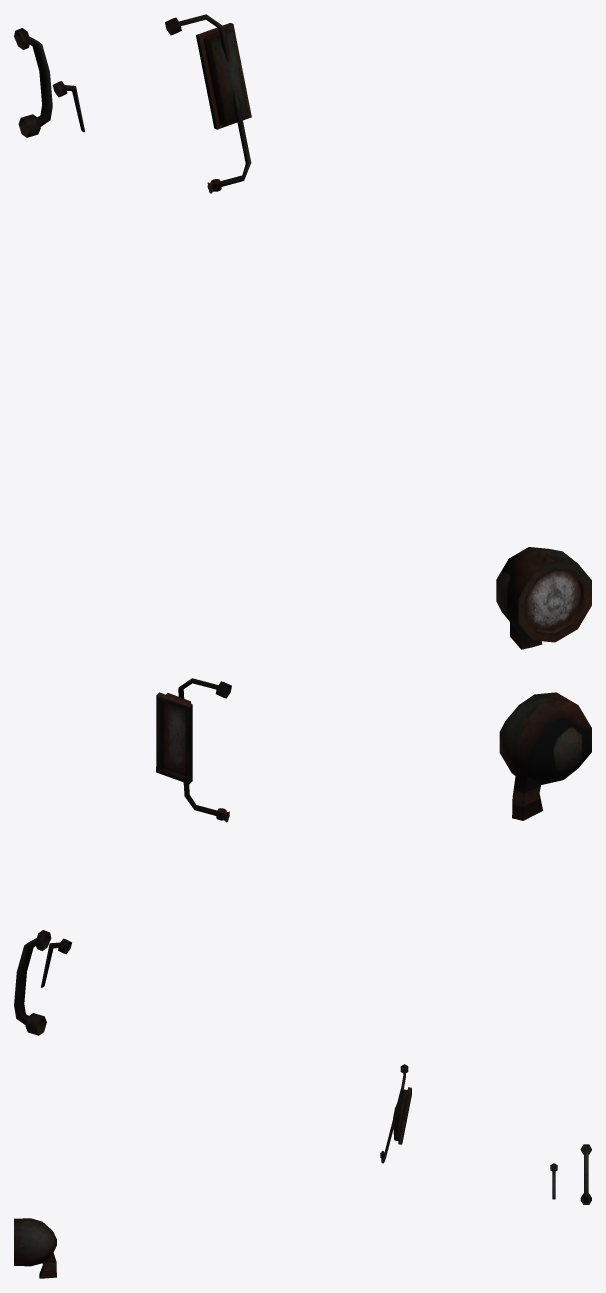
Rendered from Lights, Mirrors and Handles.FBX.
3 views of the same model, one above another, from view 1: azimuth 30°, elevation 25°; view 2: azimuth 150°, elevation 25°; view 3: azimuth 270°, elevation 25° (orthographic). The views are drawn at different scales.
Visible parts, largest first — view 1: Lights, Mirrors and Handles; view 2: Lights, Mirrors and Handles; view 3: Lights, Mirrors and Handles.
Part boxes in pixels (x1,y1,x2,y2): Lights, Mirrors and Handles: (14,14,591,649); Lights, Mirrors and Handles: (14,678,591,1035); Lights, Mirrors and Handles: (14,1064,591,1278).
Size of the model in its own units: 3.64 by 14.52 by 36.82.
